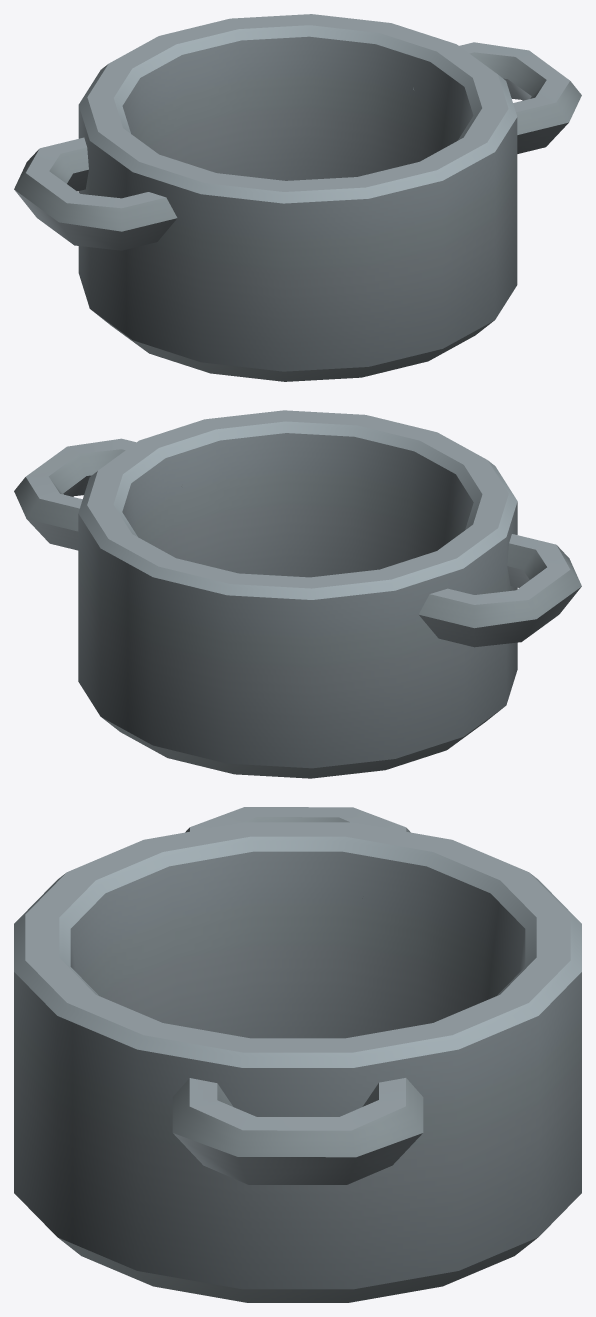
Rendered from pot.glb.
3 renders of one model, top to bottom at view 1: azimuth 30°, elevation 25°; view 2: azimuth 150°, elevation 25°; view 3: azimuth 270°, elevation 25°, orthographic. The views are drawn at different scales.
Visible parts, largest first — view 1: pot_A; view 2: pot_A; view 3: pot_A.
Part boxes in pixels (x1=…): pot_A: x1=14, y1=14, x2=581, y2=381; pot_A: x1=14, y1=410, x2=581, y2=778; pot_A: x1=14, y1=807, x2=581, y2=1302.
Bounding box in the file's own units: 1.4 × 0.5 × 1.
1 material, 1 textured.
